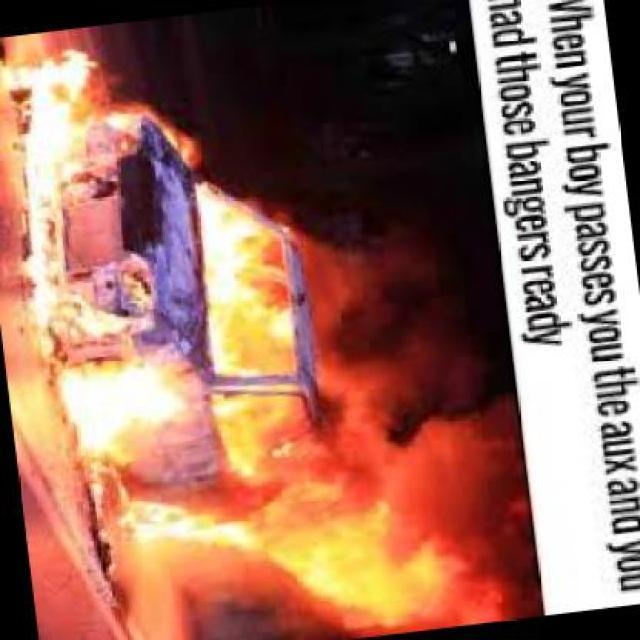Fire: (15, 59, 284, 479), (112, 498, 413, 628)
Smoke: (291, 232, 535, 490), (426, 472, 530, 626)
